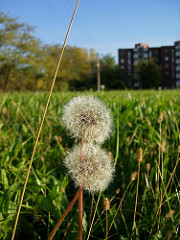dandelion white: (59, 93, 115, 145), (62, 141, 116, 194)
